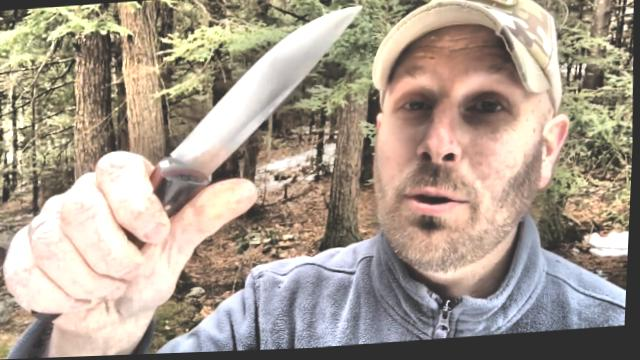knife: (83, 4, 375, 271)
